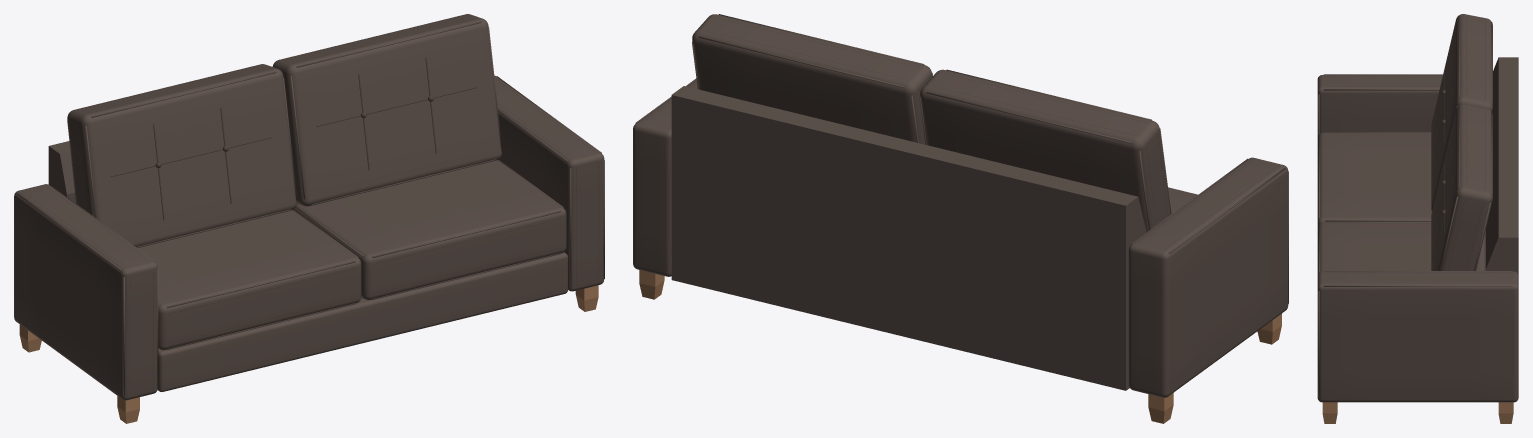
File: benza_200x80.glb
The picture shows the model from 3 angles, left to right: view 1: azimuth 30°, elevation 25°; view 2: azimuth 150°, elevation 25°; view 3: azimuth 270°, elevation 25°; orthographic projection. The views are drawn at different scales.
Parts seen in each view (by area): view 1: p1, p2, p0; view 2: p1, p0, p2; view 3: p1, p2, p0.
Part boxes in pixels (<box>): p1: <box>14,14,604,400</box>; p2: <box>22,15,599,394</box>; p0: <box>19,285,598,423</box>; p1: <box>633,14,1288,397</box>; p0: <box>639,270,1281,423</box>; p2: <box>642,18,1277,249</box>; p1: <box>1317,14,1518,402</box>; p2: <box>1326,16,1511,272</box>; p0: <box>1322,402,1513,423</box>.
Bounding box in the file's own units: 2 × 0.9642 × 0.8006.
Materials: 3 (2 with a texture image).
